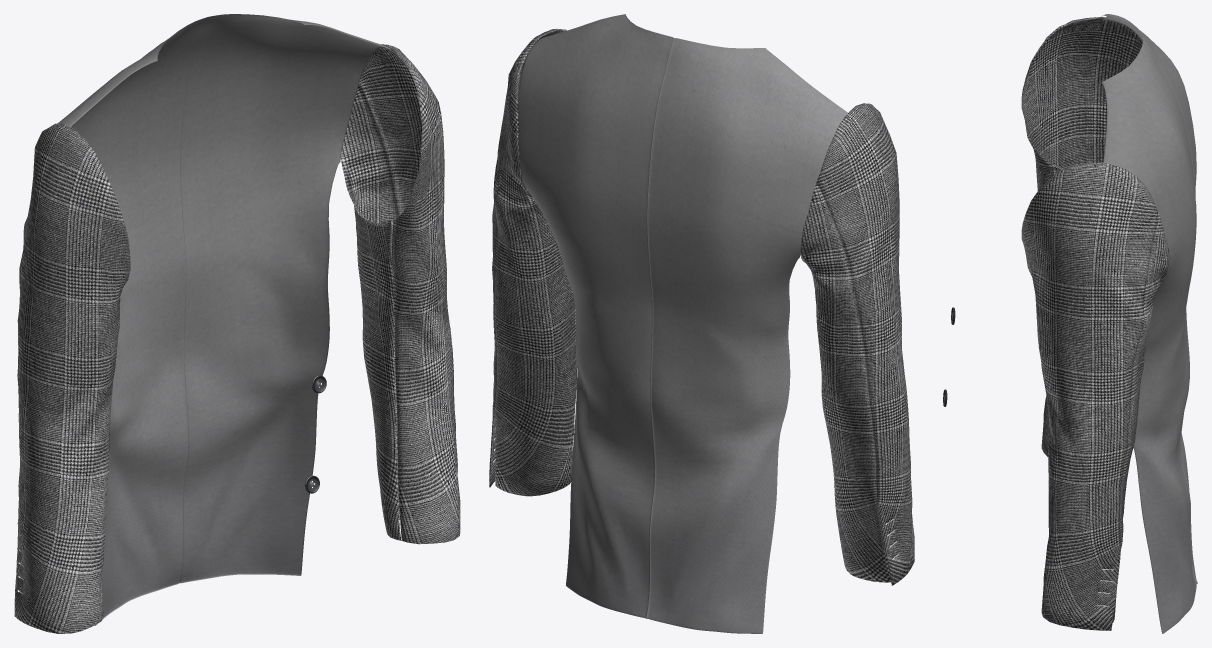
File: classicnochdoublebtn.glb
3 views of the same model, side by side, from view 1: azimuth 30°, elevation 25°; view 2: azimuth 150°, elevation 25°; view 3: azimuth 270°, elevation 25° (orthographic). The views are drawn at different scales.
Parts seen in each view (by area): view 1: Full_Lined, Sleves; view 2: Full_Lined, Sleves; view 3: Sleves, Full_Lined.
Part boxes in pixels (left/top/right/bottom): Full_Lined: left=57, top=14, right=390, bottom=625; Sleves: left=14, top=44, right=460, bottom=633; Full_Lined: left=518, top=14, right=847, bottom=633; Sleves: left=489, top=28, right=914, bottom=585; Sleves: left=1021, top=17, right=1169, bottom=630; Full_Lined: left=1101, top=14, right=1197, bottom=633.
Size of the model in its own units: 0.0774 by 0.1027 by 0.0433.
Materials: 5 (4 with a texture image).
